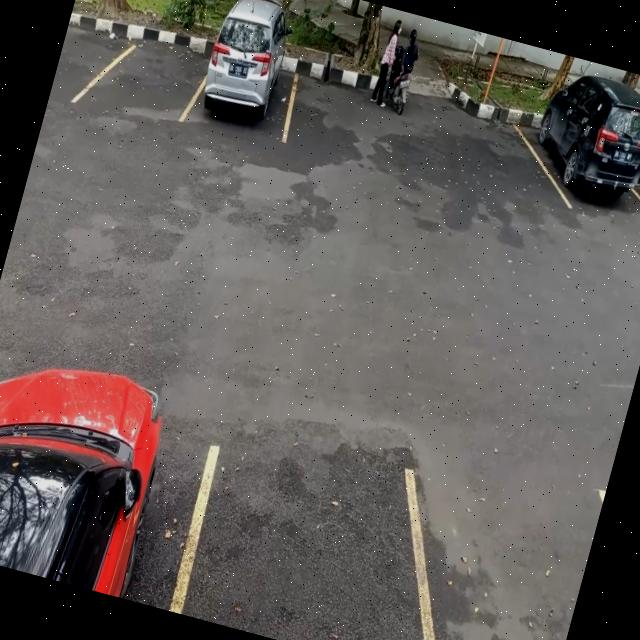empty: (165, 418, 448, 640), (395, 451, 605, 640), (84, 17, 209, 125)
occupied: (520, 84, 640, 223), (191, 15, 313, 140)
